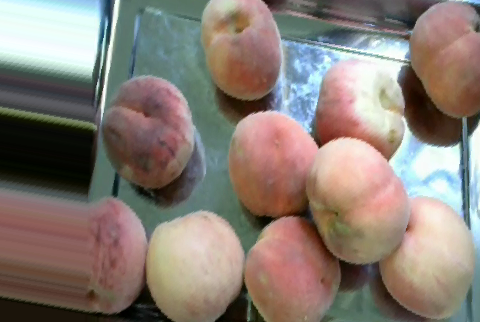Peach: (307, 137, 409, 264), (380, 193, 474, 319), (144, 209, 243, 322), (243, 214, 343, 322), (101, 74, 195, 188), (227, 110, 320, 217), (316, 58, 406, 161), (408, 1, 479, 117), (201, 0, 281, 99)
